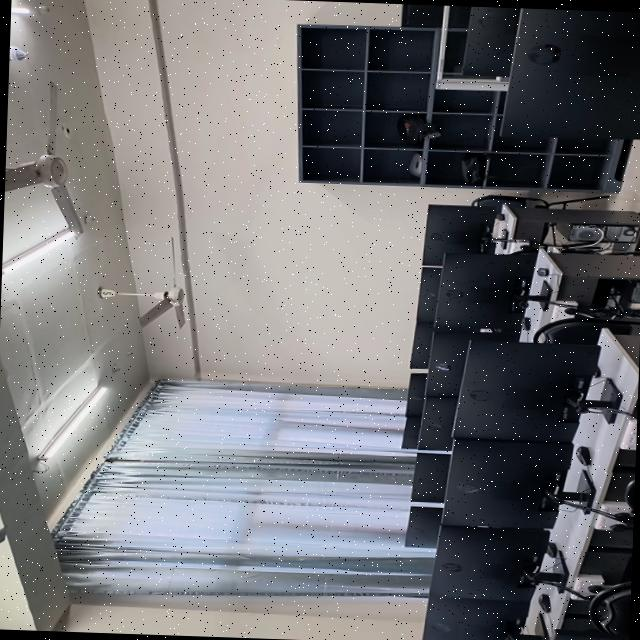Chair: (534, 316, 640, 343), (589, 580, 631, 634), (471, 193, 608, 208), (624, 478, 635, 512)
Cpu: (555, 221, 638, 244), (610, 277, 640, 302)
Light: (39, 385, 108, 459), (1, 227, 75, 274), (11, 5, 31, 13)
Monitor: (502, 7, 640, 138), (453, 341, 621, 441), (443, 437, 595, 527), (430, 524, 568, 602), (434, 248, 550, 332), (425, 330, 514, 395), (422, 595, 549, 640), (423, 203, 500, 264), (463, 5, 520, 75), (417, 395, 456, 449), (411, 452, 450, 501), (405, 505, 441, 547), (416, 266, 441, 321), (410, 321, 435, 368), (552, 627, 629, 640), (406, 371, 427, 416), (401, 414, 421, 448)
Mouse: (575, 445, 590, 464), (537, 592, 550, 611), (546, 541, 558, 557), (521, 316, 529, 329), (537, 267, 549, 274), (496, 212, 504, 219)
